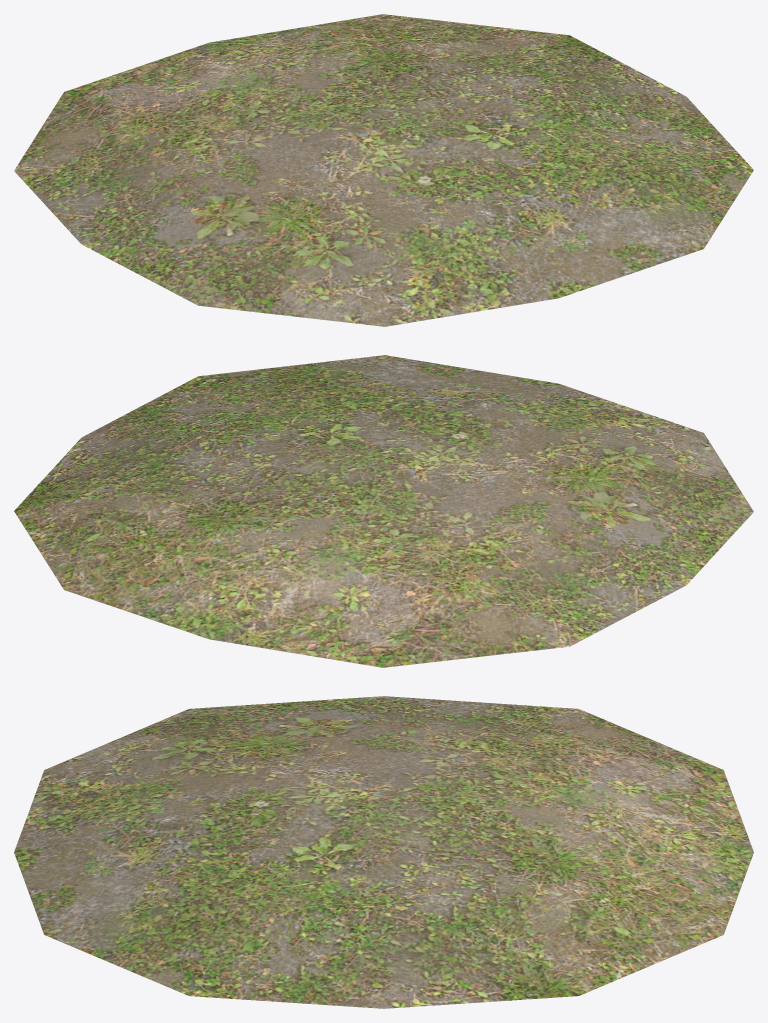
The model's file is ground.FBX.
3 views of the same model, one above another, from view 1: azimuth 30°, elevation 25°; view 2: azimuth 150°, elevation 25°; view 3: azimuth 270°, elevation 25° (orthographic). The views are drawn at different scales.
Parts seen in each view (by area): view 1: grass_ground; view 2: grass_ground; view 3: grass_ground.
Part boxes in pixels (box(x1,y1,x2,y2)): grass_ground: box(14, 14, 753, 326); grass_ground: box(14, 355, 753, 667); grass_ground: box(14, 696, 753, 1008).
Bounding box in the file's own units: 340 × 24.84 × 340.
